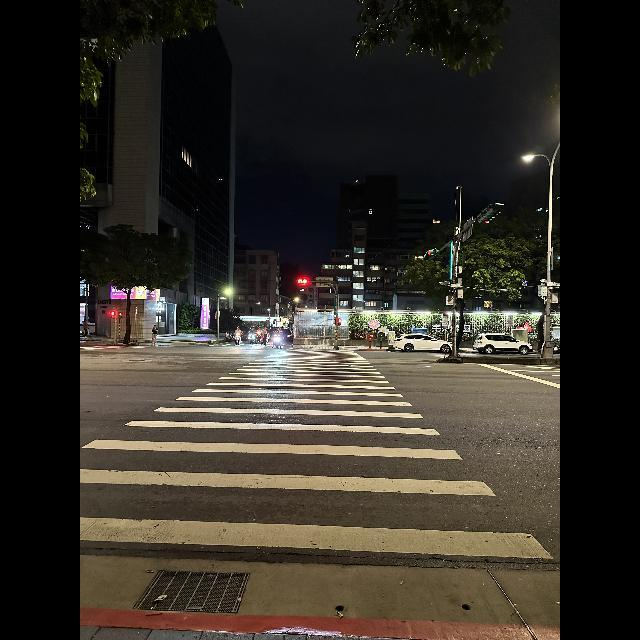sidewalk: (80, 348, 559, 564)
